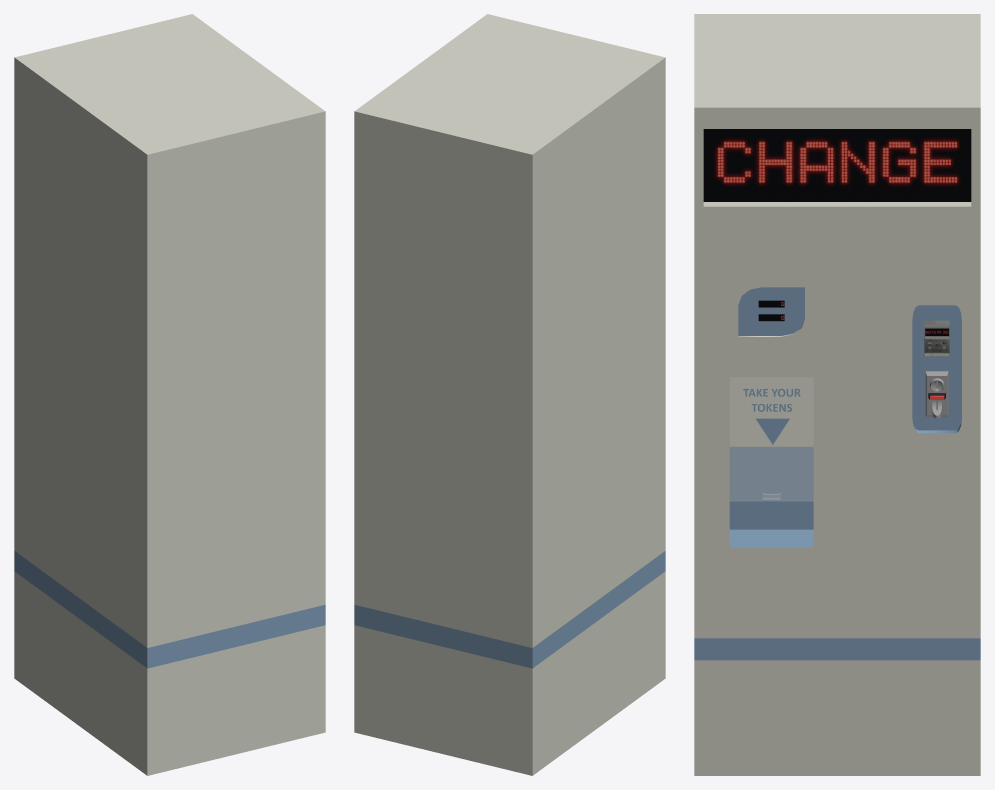
The model's file is Token machine.fbx.
The picture shows the model from 3 angles, left to right: view 1: azimuth 30°, elevation 25°; view 2: azimuth 150°, elevation 25°; view 3: azimuth 270°, elevation 25°; orthographic projection. The views are drawn at different scales.
Parts seen in each view (by area): view 1: Machine; view 2: Machine; view 3: Machine.
Part boxes in pixels (box(x1,y1,x2,y2)): Machine: box(14, 14, 325, 775); Machine: box(354, 14, 665, 775); Machine: box(694, 14, 980, 775).
Size of the model in its own units: 0.5371 by 1.7 by 0.66.
